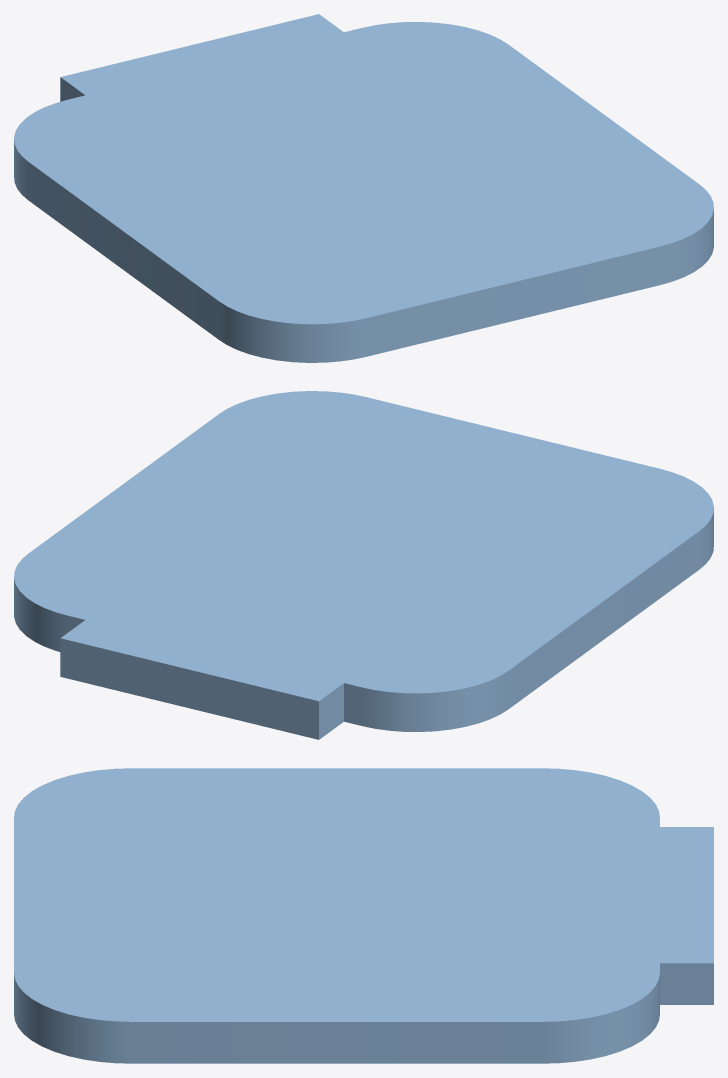
File: startingPoint.fbx
3 renders of one model, top to bottom at view 1: azimuth 30°, elevation 25°; view 2: azimuth 150°, elevation 25°; view 3: azimuth 270°, elevation 25°, orthographic. The views are drawn at different scales.
Visible parts, largest first — view 1: startingPoint; view 2: startingPoint; view 3: startingPoint.
Part boxes in pixels (left/top/right/bottom): startingPoint: left=14, top=14, right=713, bottom=362; startingPoint: left=14, top=391, right=713, bottom=739; startingPoint: left=14, top=768, right=713, bottom=1063.
Bounding box in the file's own units: 650 × 50 × 759.
